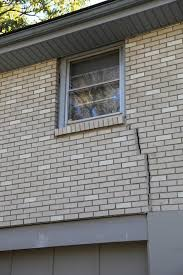stairstep_crack: (126, 122, 152, 210)
